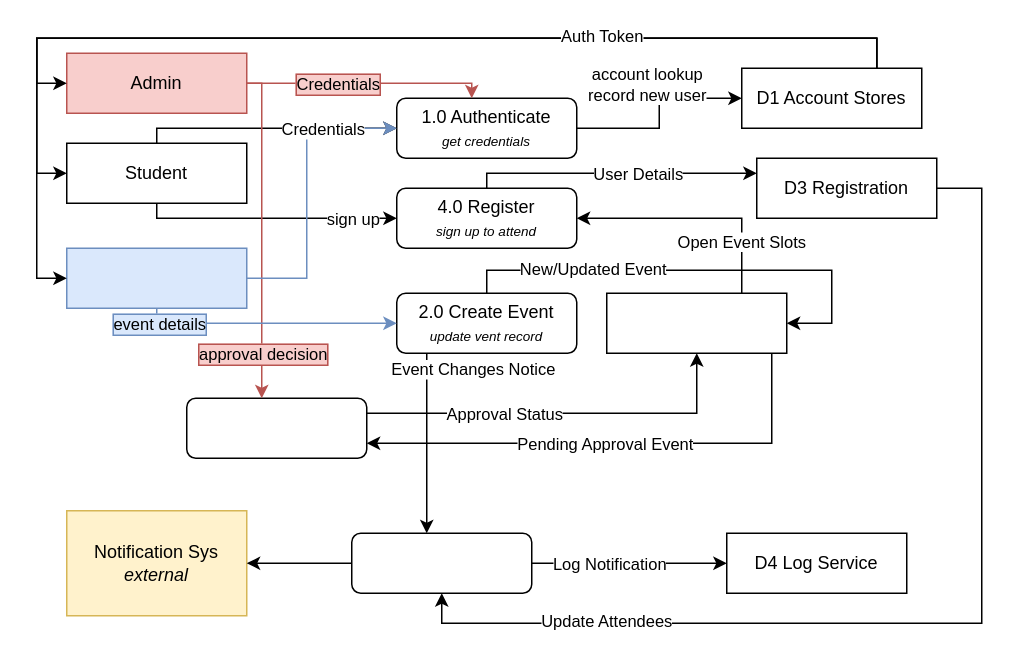
Image size: 1020x662. Some labels were removed from this diagram. Each missing label, with the centre of its shape:
"3.0 Approval" goes at point 276,427.
"5.0 Notify" goes at point 441,562.
"D2 Events" goes at point 696,322.
"Organizer" goes at point 156,277.
